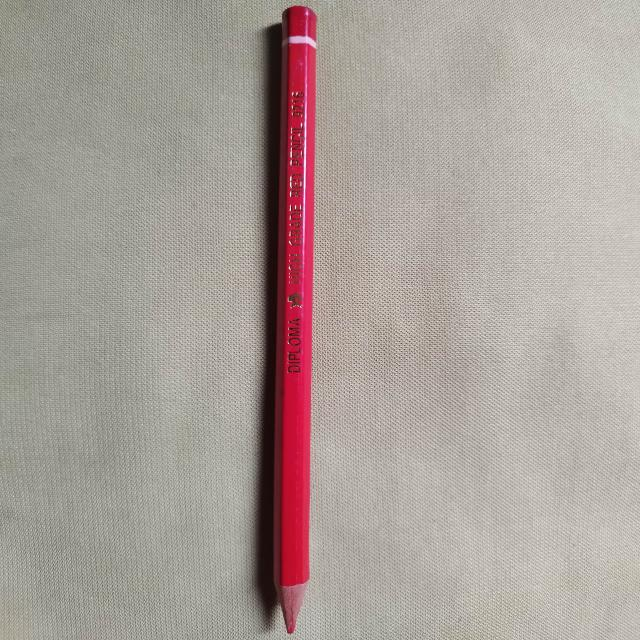pencil: (272, 6, 318, 634)
